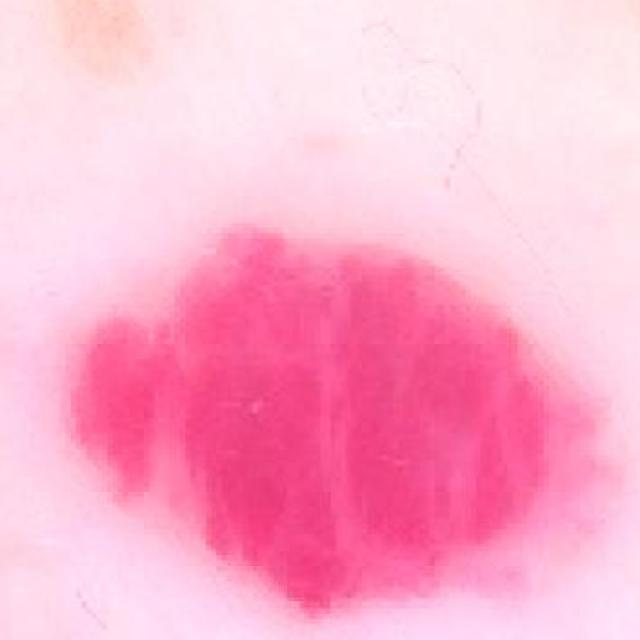VASC: (58, 155, 640, 640)
